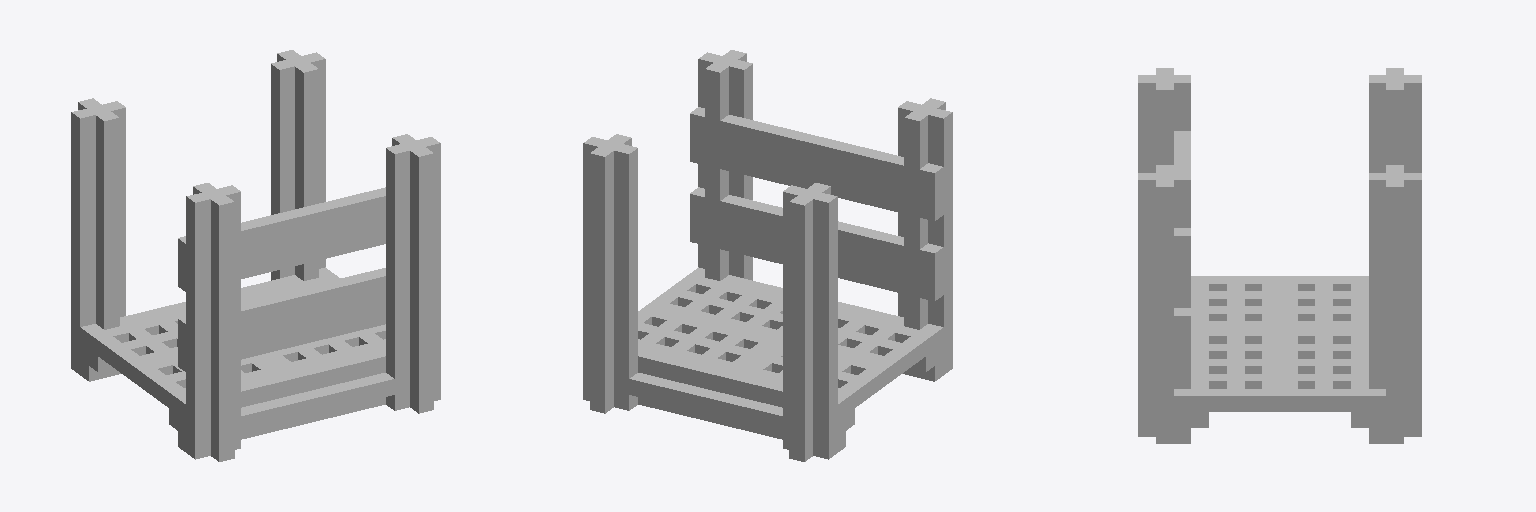
The model's file is pole_scaffolding_ladder_floor_steel.obj.
The picture shows the model from 3 angles: view 1: azimuth 30°, elevation 25°; view 2: azimuth 150°, elevation 25°; view 3: azimuth 270°, elevation 25°; orthographic projection.
Visible parts, largest first — view 1: node_1_0_0; view 2: node_1_0_0; view 3: node_1_0_0.
Part boxes in pixels (x1,y1,x2,y2): node_1_0_0: (71, 50, 440, 461); node_1_0_0: (583, 50, 952, 461); node_1_0_0: (1138, 68, 1421, 443).
Size of the model in its own units: 1 by 1 by 1.